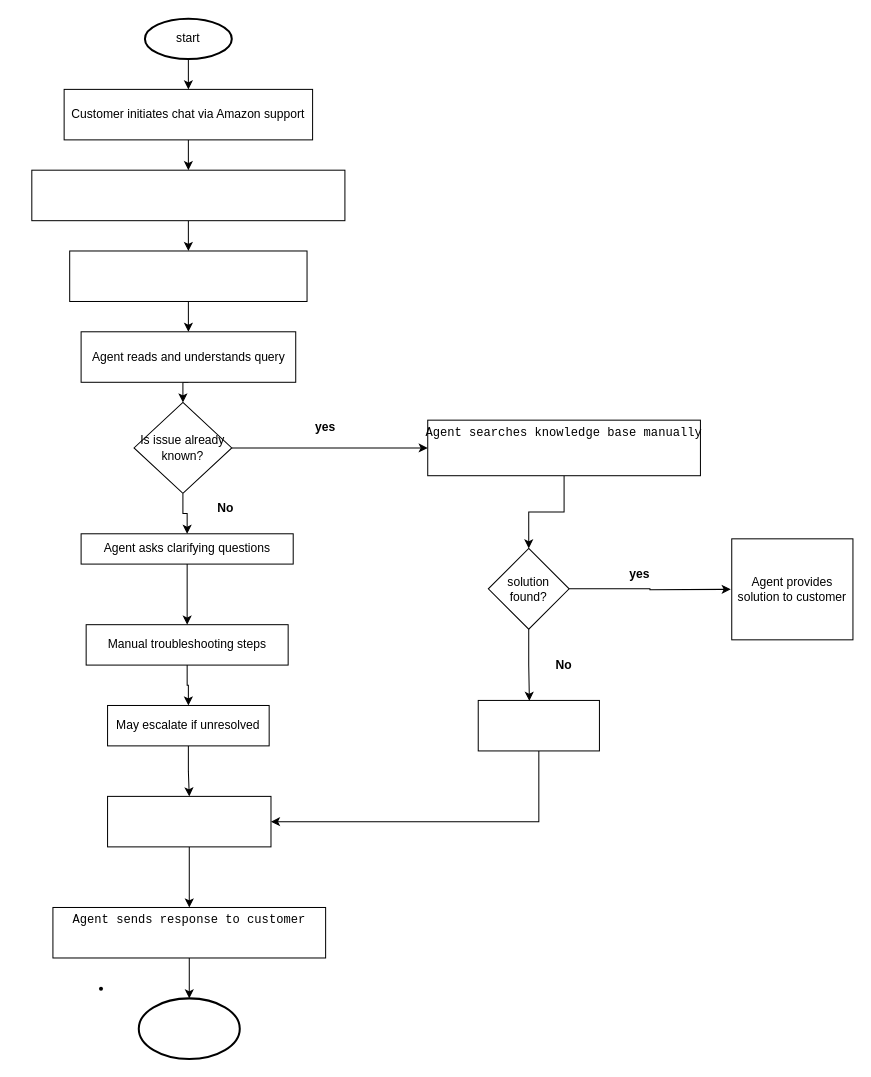
This 871x1077 diagram has some shape labels left out. The centre of each missing label's shape, as x and y in pixels:
Chat routed to Customer Support Associate (CSA): point (188, 195)
Customer explains issue manually: point (188, 275)
End: point (188, 1028)
Escalate to higher support / supervisor: point (538, 725)
Issue resolved manually: point (189, 821)
